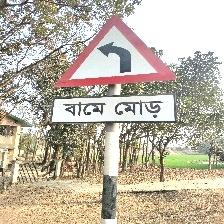Left-Turn: (52, 13, 179, 131)
